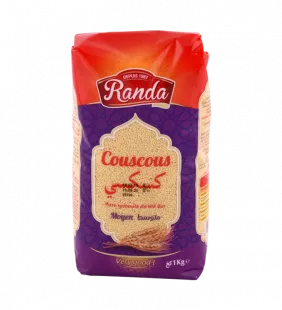RANDA: (60, 20, 220, 290)
